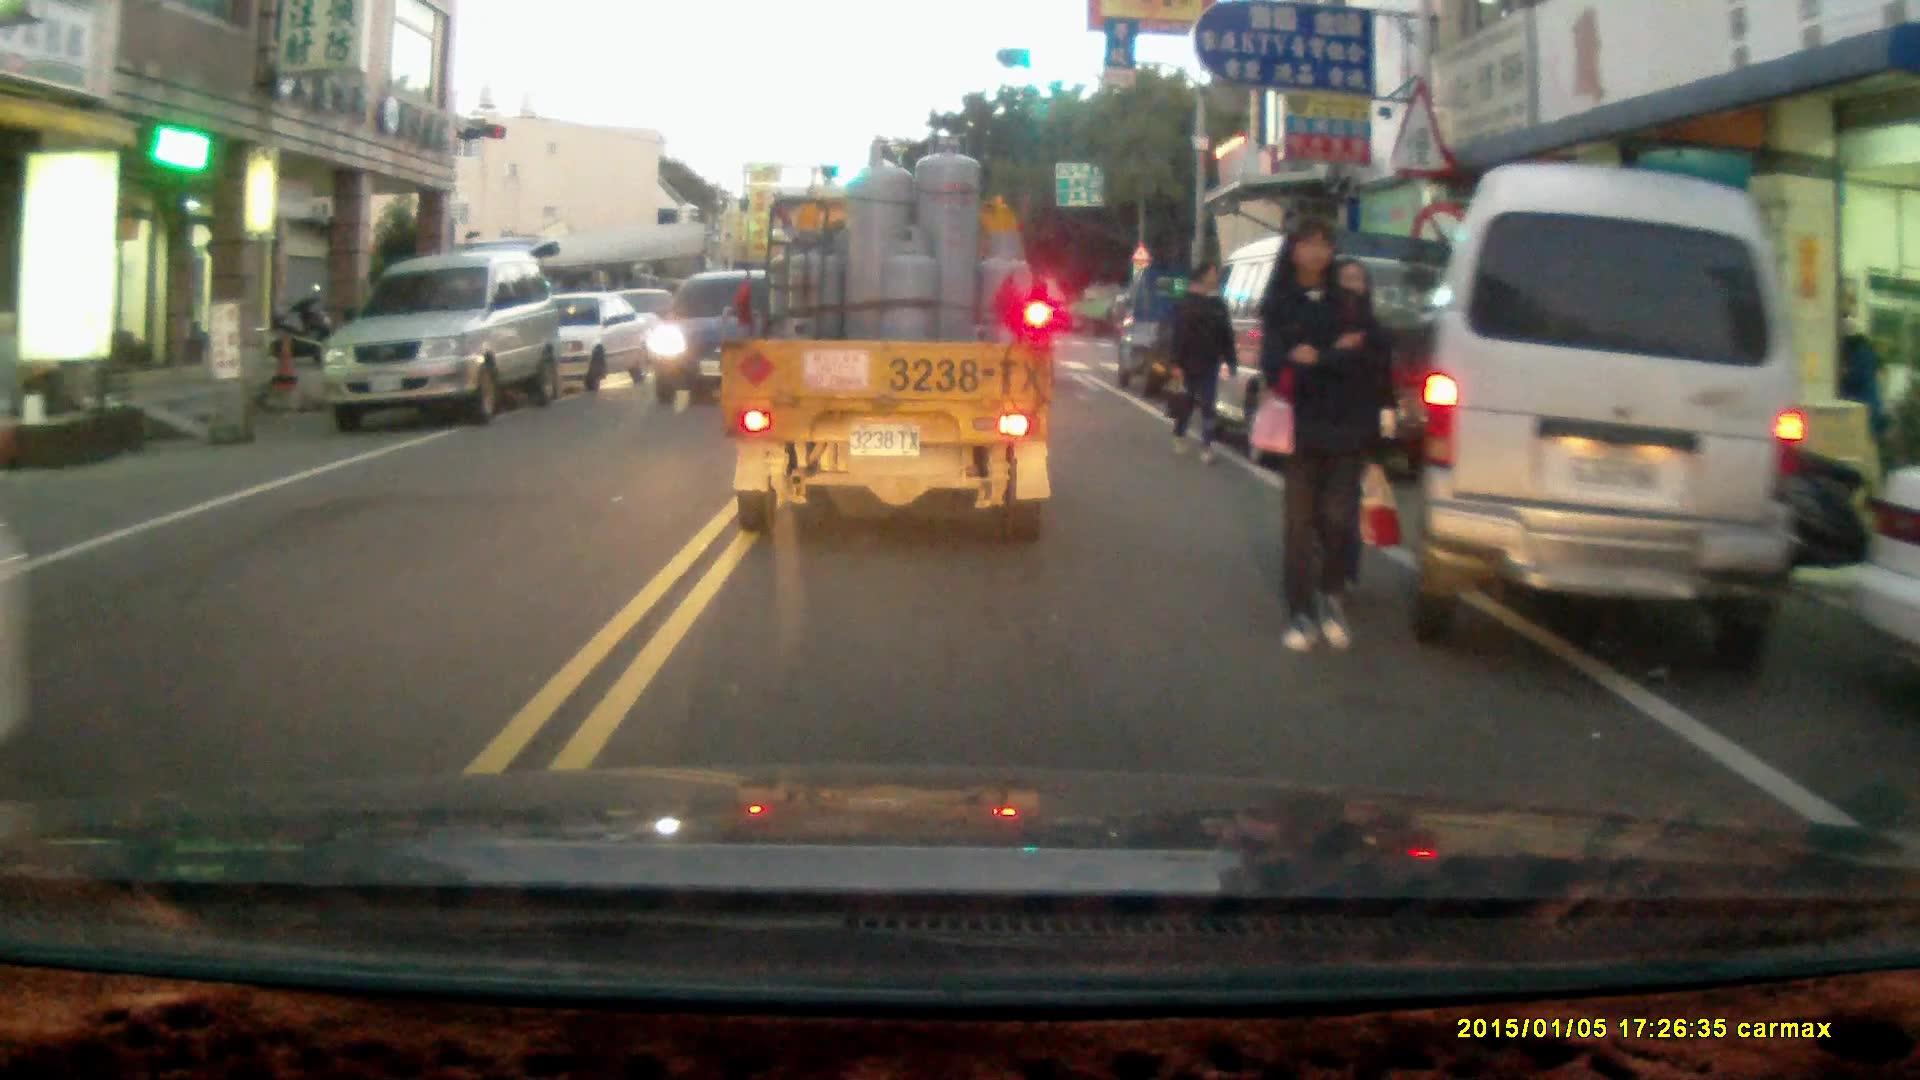pedestrian: (1257, 216, 1386, 654), (1163, 255, 1235, 466)
vehicle: (1410, 163, 1824, 672), (715, 128, 1055, 533), (1184, 218, 1485, 465), (326, 246, 568, 434), (647, 264, 799, 408), (498, 290, 656, 395)
